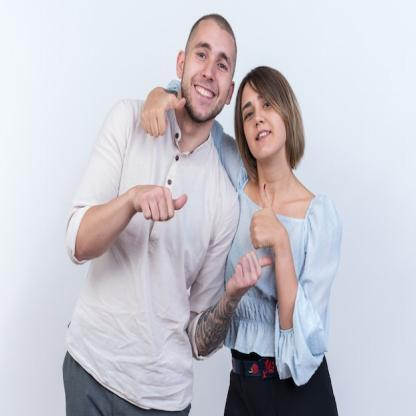thumb_up: (132, 176, 189, 228), (245, 180, 278, 251)
